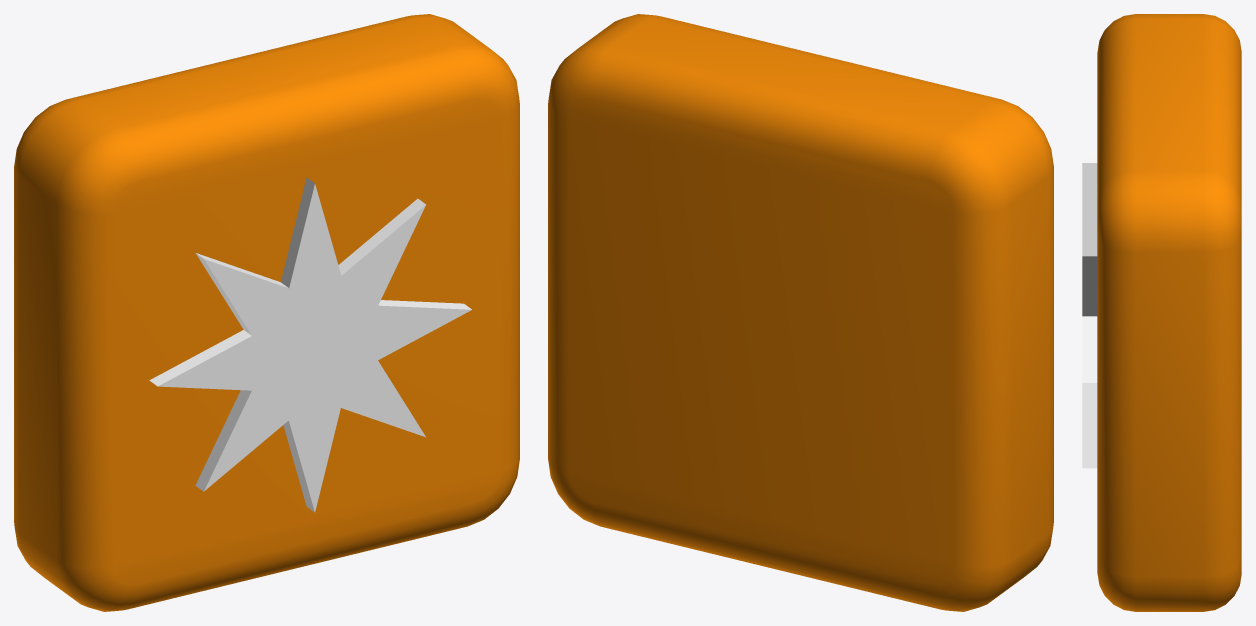
Rendered from eight_pointed_star.glb.
3 renders of one model, left to right at view 1: azimuth 30°, elevation 25°; view 2: azimuth 150°, elevation 25°; view 3: azimuth 270°, elevation 25°, orthographic. The views are drawn at different scales.
Visible parts, largest first — view 1: Cube.6466; view 2: Cube.6466; view 3: Cube.6466.
Boxes of the visible parts, x1,y1,x2,y2 form: Cube.6466: (14,14,519,611); Cube.6466: (548,14,1053,611); Cube.6466: (1082,14,1241,611).
Size of the model in its own units: 2.2 by 2.2 by 0.73.
Materials: 1 (1 with a texture image).
